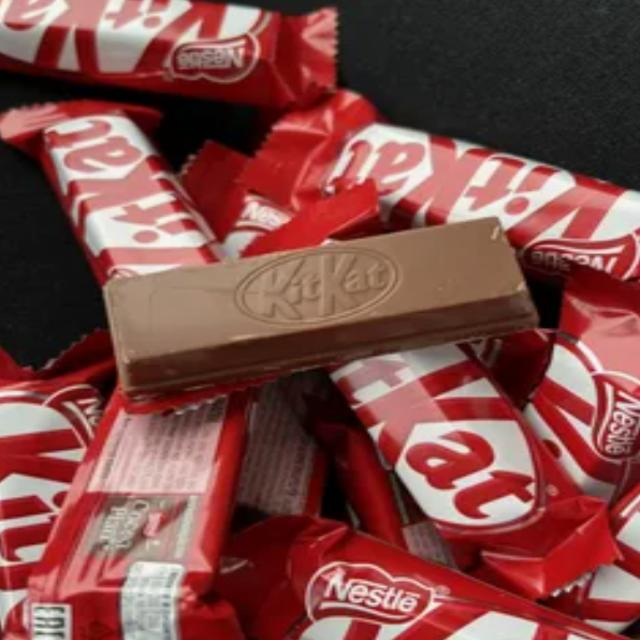supermarket-product: (147, 267, 558, 425)
